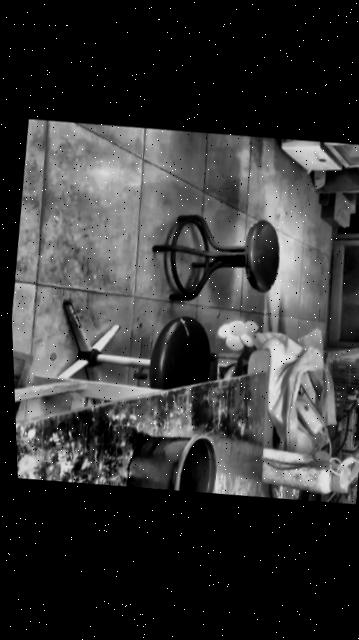pot: (124, 427, 220, 498)
